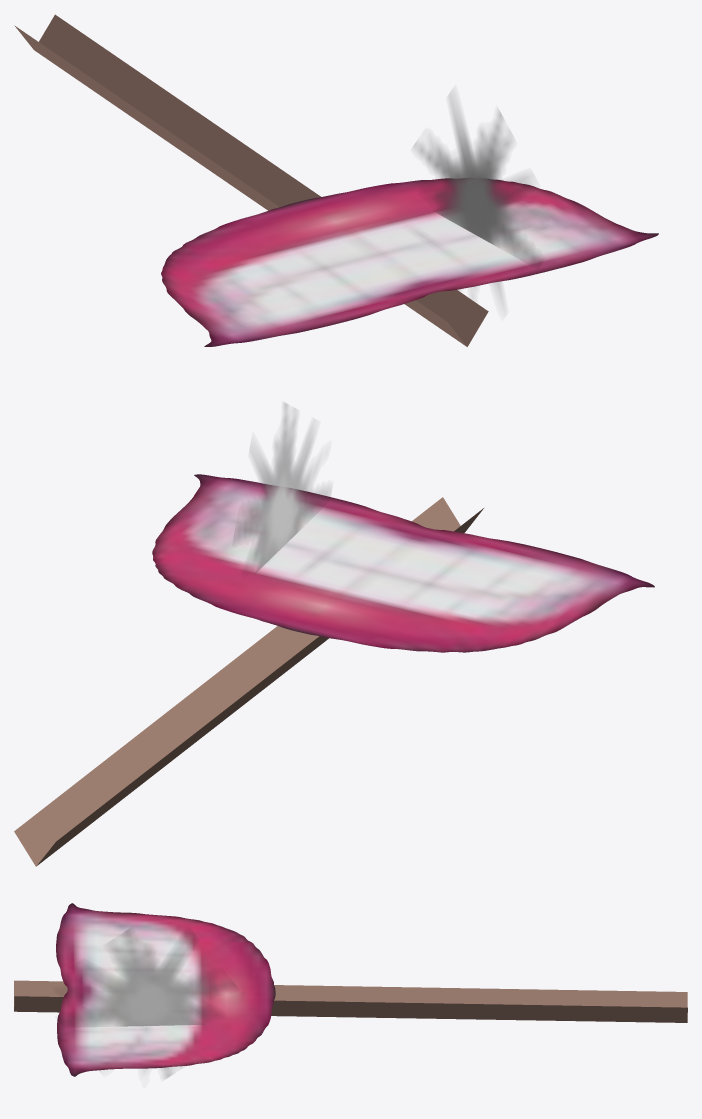
The model's file is smile.glb.
3 renders of one model, top to bottom at view 1: azimuth 30°, elevation 25°; view 2: azimuth 150°, elevation 25°; view 3: azimuth 270°, elevation 25°, orthographic. The views are drawn at different scales.
Visible parts, largest first — view 1: scale_joint_sign, scale_sparkle; view 2: scale_joint_sign, scale_sparkle; view 3: scale_joint_sign, scale_sparkle.
Part boxes in pixels (left/top/right/bottom): scale_joint_sign: left=14, top=14, right=658, bottom=346; scale_sparkle: left=414, top=96, right=540, bottom=293; scale_joint_sign: left=14, top=474, right=654, bottom=866; scale_sparkle: left=234, top=403, right=330, bottom=572; scale_joint_sign: left=14, top=903, right=687, bottom=1076; scale_sparkle: left=60, top=929, right=235, bottom=1078.
Bounding box in the file's own units: 2.03 × 1.04 × 3.06.
3 materials, 2 textured.
